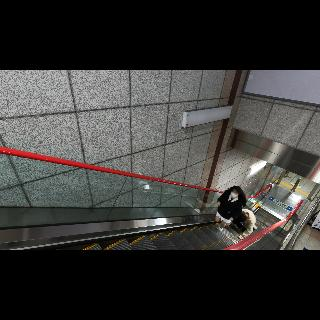anomaly: (230, 208, 262, 240)
normal: (218, 184, 240, 233)
